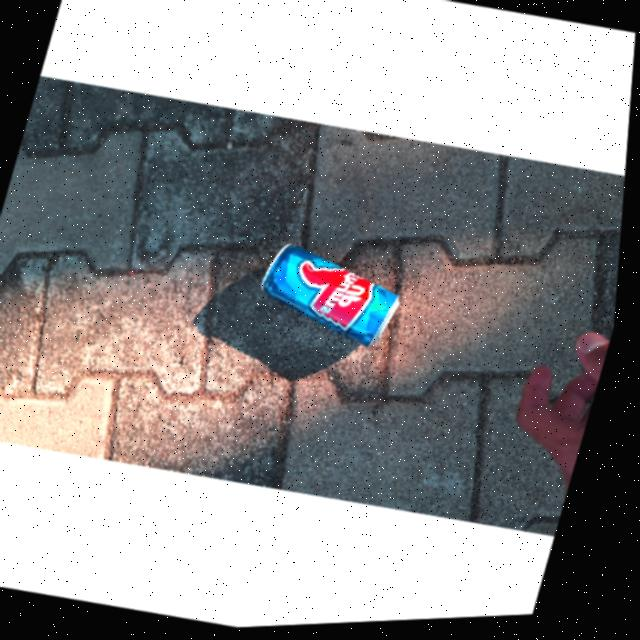Thums Up: (245, 234, 417, 362)
